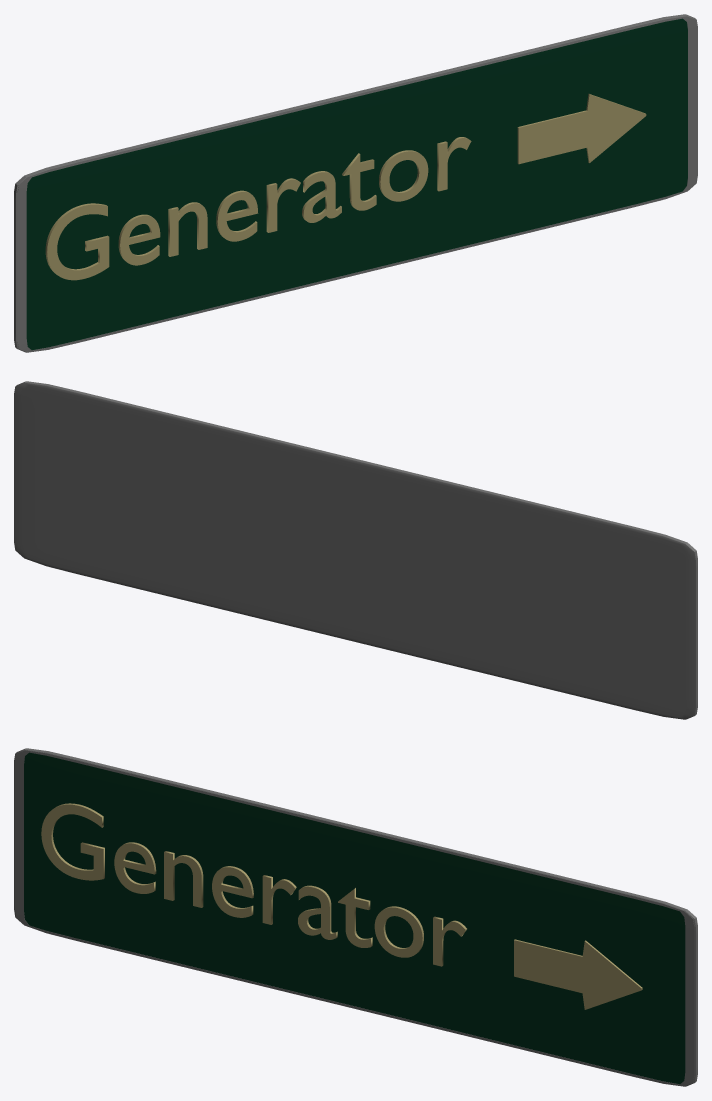
The model's file is Generator to the right.fbx.
3 views of the same model, one above another, from view 1: azimuth 30°, elevation 25°; view 2: azimuth 150°, elevation 25°; view 3: azimuth 330°, elevation 25° (orthographic).
Visible parts, largest first — view 1: Cube.001, Text.001, Cube.002; view 2: Cube.001; view 3: Cube.001, Text.001, Cube.002.
Boxes of the visible parts, bbox=[...] form: Cube.001: bbox=[14, 14, 697, 352]; Text.001: bbox=[45, 137, 471, 280]; Cube.002: bbox=[517, 93, 646, 164]; Cube.001: bbox=[14, 381, 697, 719]; Cube.001: bbox=[14, 748, 697, 1086]; Text.001: bbox=[41, 803, 466, 966]; Cube.002: bbox=[514, 939, 642, 1009].
Bounding box in the file's own units: 1504 × 382 × 16.02.
